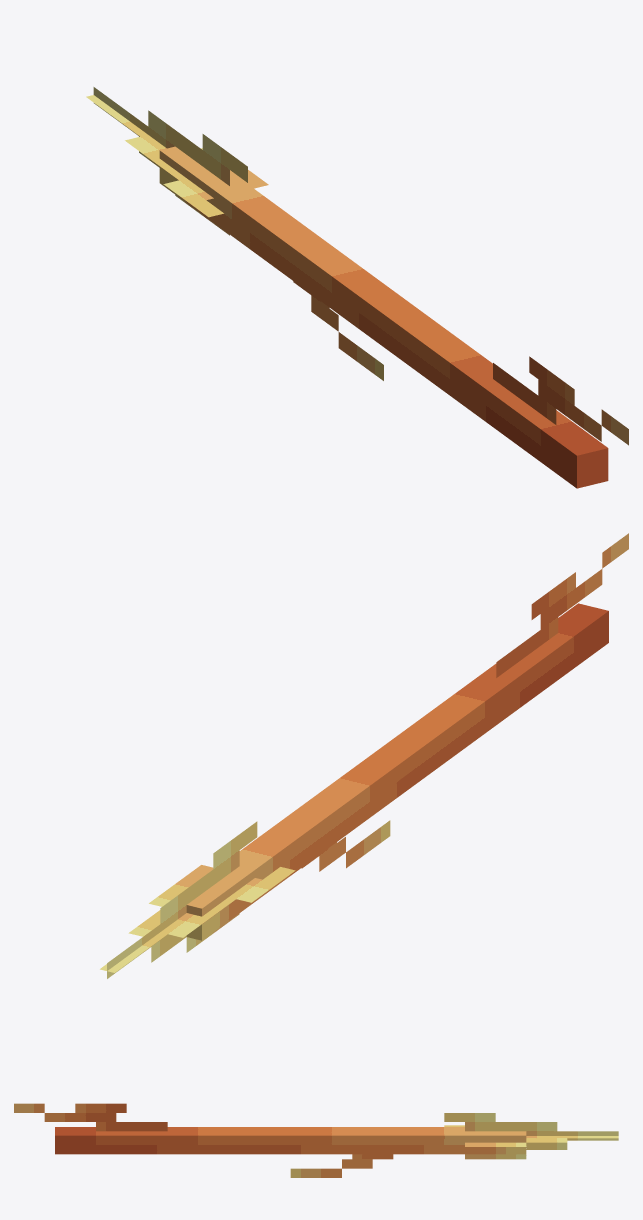
The model's file is javelin.gltf.
3 views of the same model, one above another, from view 1: azimuth 30°, elevation 25°; view 2: azimuth 150°, elevation 25°; view 3: azimuth 270°, elevation 25° (orthographic). The views are drawn at different scales.
Visible parts, largest first — view 1: cube (×5); view 2: cube (×5); view 3: cube (×5).
Boxes of the visible parts, x1=… form: cube (×5): x1=86, y1=87, x2=628, y2=488; cube (×5): x1=100, y1=533, x2=628, y2=978; cube (×5): x1=14, y1=1103, x2=618, y2=1177.
Bounding box in the file's own units: 0.3125 × 0.375 × 1.88.
Materials: 1 (1 with a texture image).
